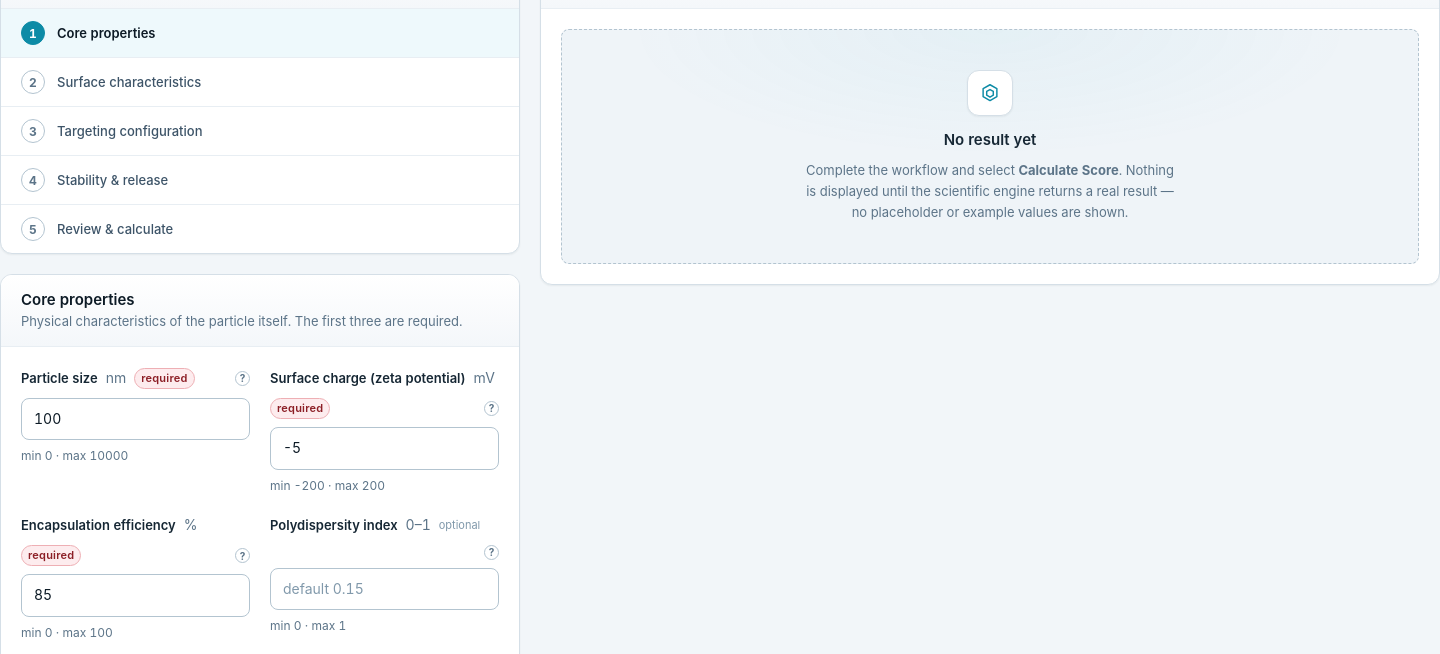
Test: workflow navigation › preserves inputs when moving between steps
The width and height of the screenshot is (1440, 654).
Replace the text in the field labelled "Particle size" with "123" at point(136, 419), box x1=21 y1=398 x2=250 y2=440
(page scrolled)
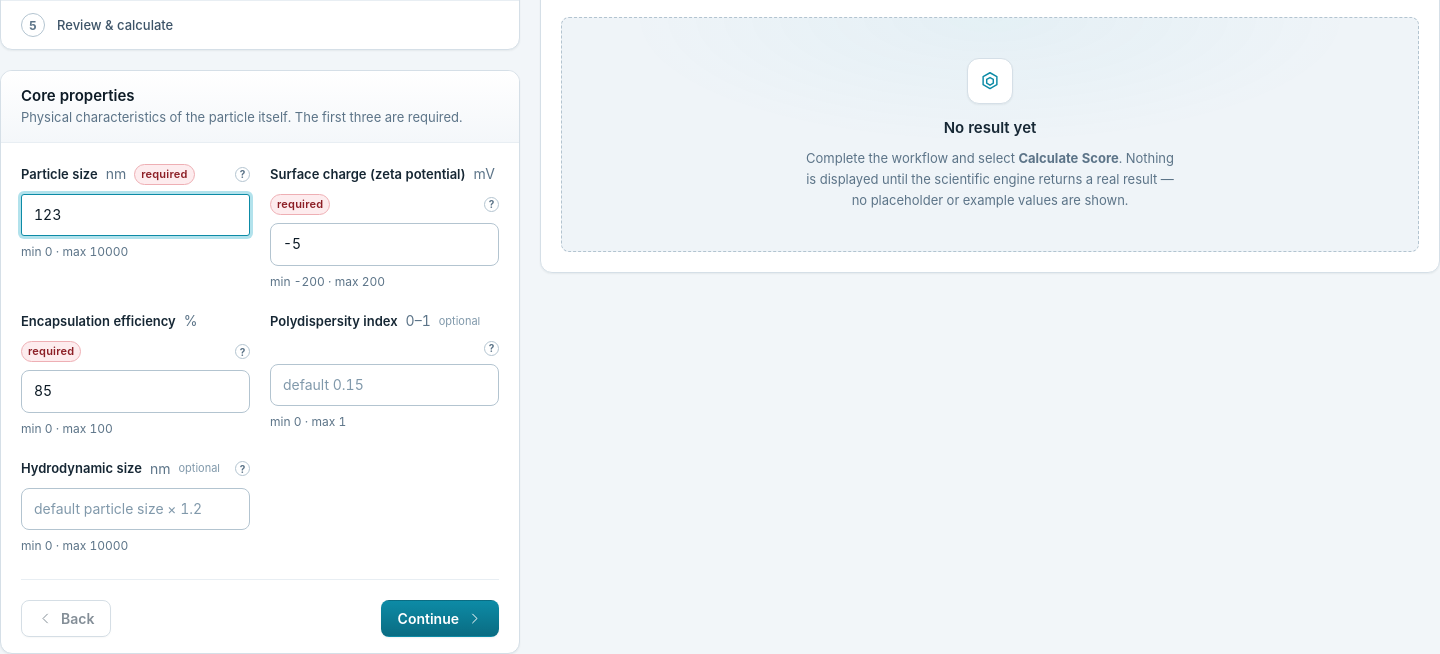
Click the button "Continue" at point(440, 619), box x1=381 y1=600 x2=499 y2=637
(page scrolled)
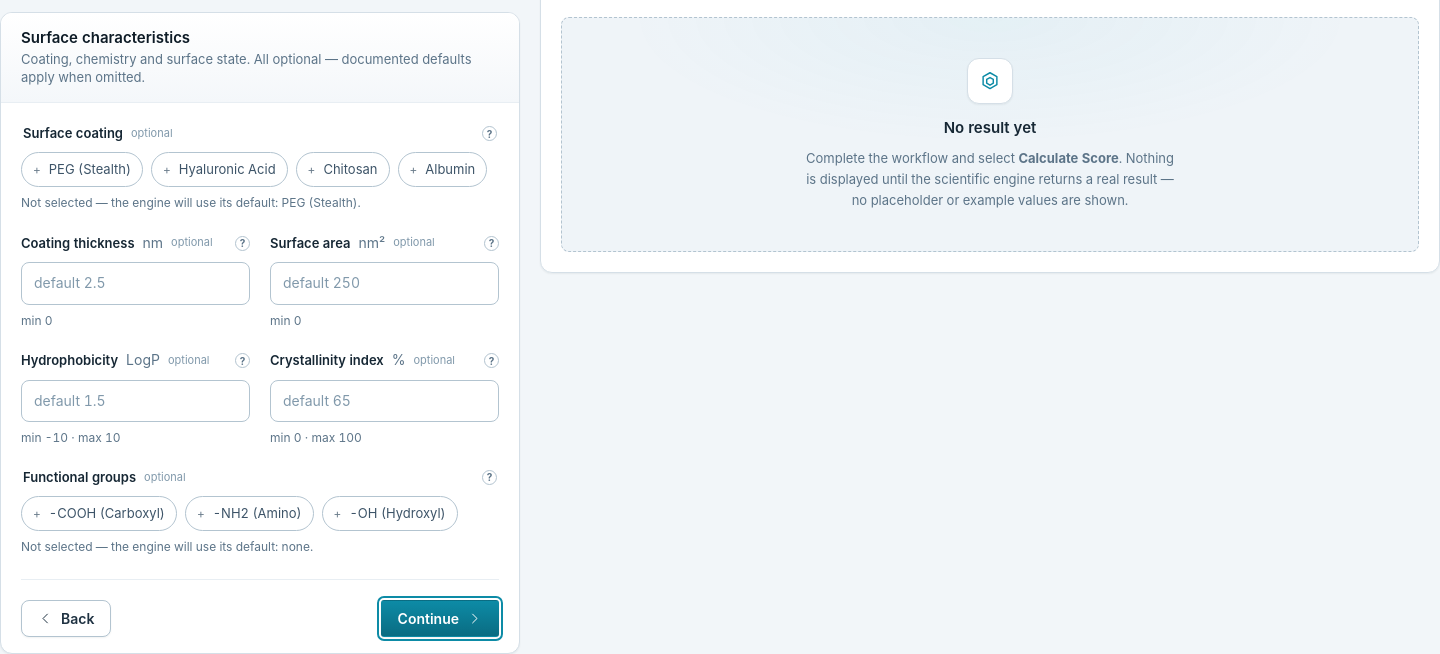
Expected: the heading "Surface characteristics" is shown, x1=21 y1=28 x2=190 y2=47
Click the button "Back" at point(66, 619), box x1=21 y1=600 x2=111 y2=637
(page scrolled)
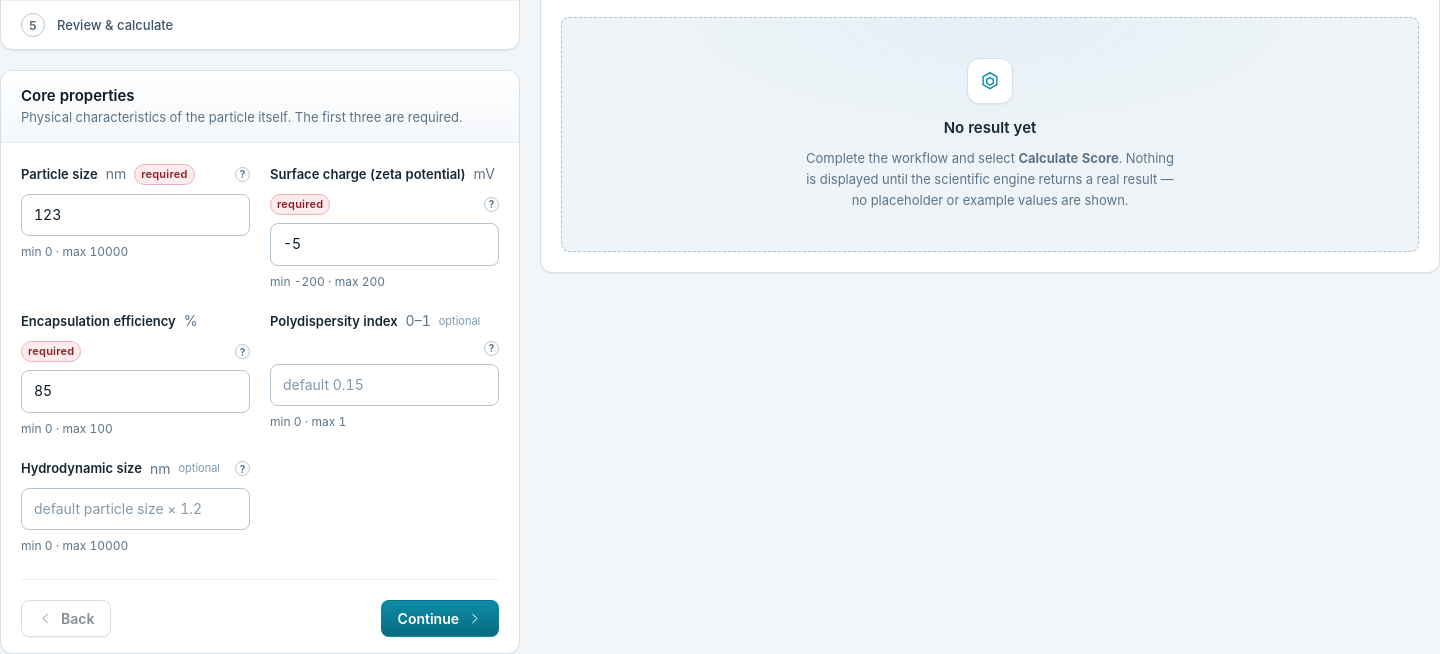
Expected: the field labelled "Particle size" holds "123", x1=21 y1=194 x2=250 y2=236
